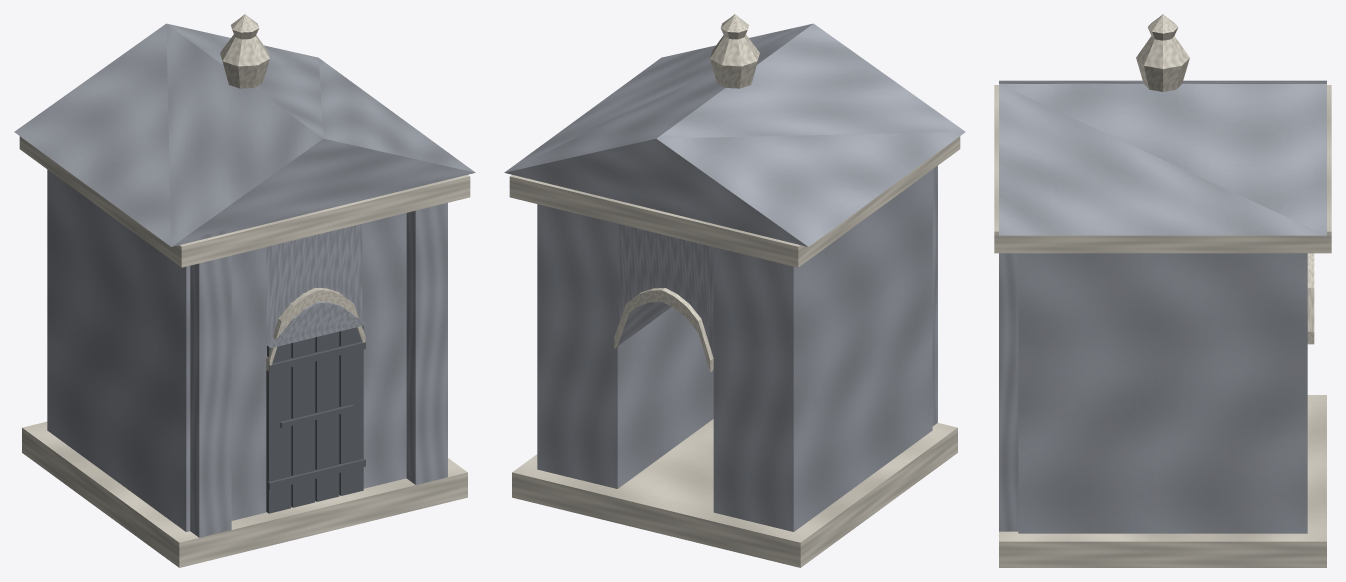
File: vampire-crypt-and-gothic-cathedral-mausoleum-7521cee6__23044.glb
3 views of the same model, side by side, from view 1: azimuth 30°, elevation 25°; view 2: azimuth 150°, elevation 25°; view 3: azimuth 270°, elevation 25° (orthographic). The views are drawn at different scales.
Parts seen in each view (by area): view 1: mausoleum, door-leaf; view 2: mausoleum; view 3: mausoleum.
Boxes of the visible parts, x1=… form: mausoleum: x1=14, y1=14, x2=475, y2=567; door-leaf: x1=266, y1=325, x2=365, y2=513; mausoleum: x1=504, y1=14, x2=965, y2=567; mausoleum: x1=994, y1=14, x2=1331, y2=567.
Bounding box in the file's own units: 3.8 × 5.5 × 3.5.
3 materials, 2 textured.
